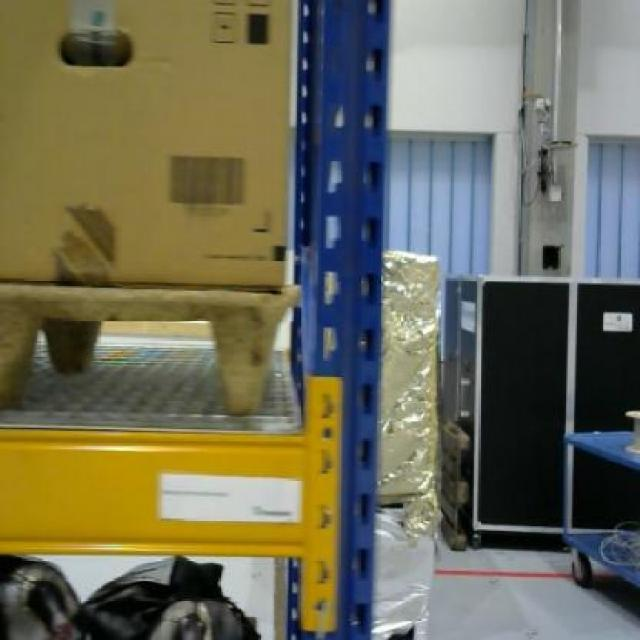box: (0, 0, 289, 280)
